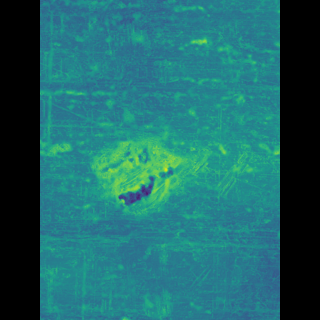Loch: (110, 132, 183, 213), (183, 103, 209, 178), (201, 152, 231, 193)
